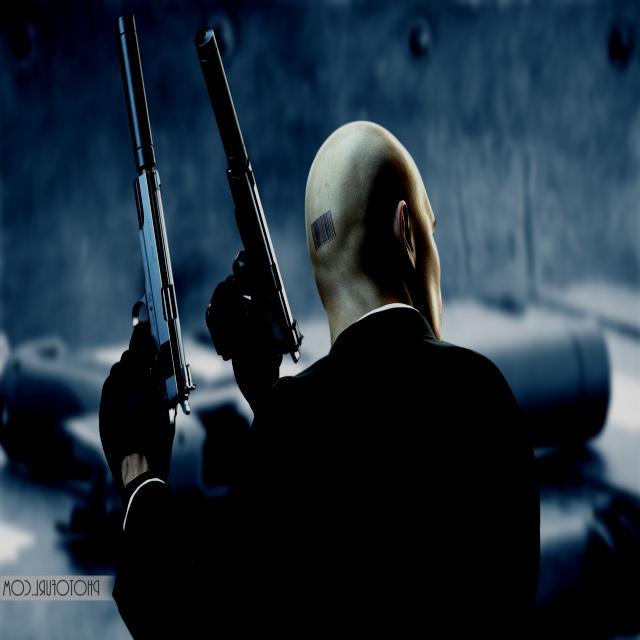pistol: (100, 10, 198, 434), (186, 23, 307, 364)
